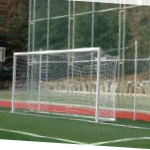goals: (10, 46, 120, 124)
